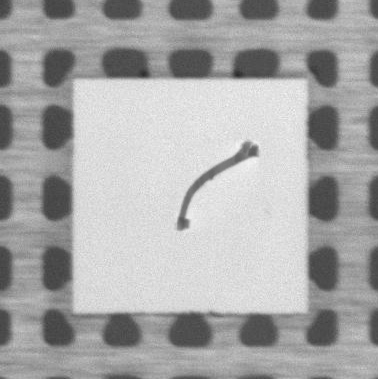DIE_INK: (172, 137, 261, 236)
